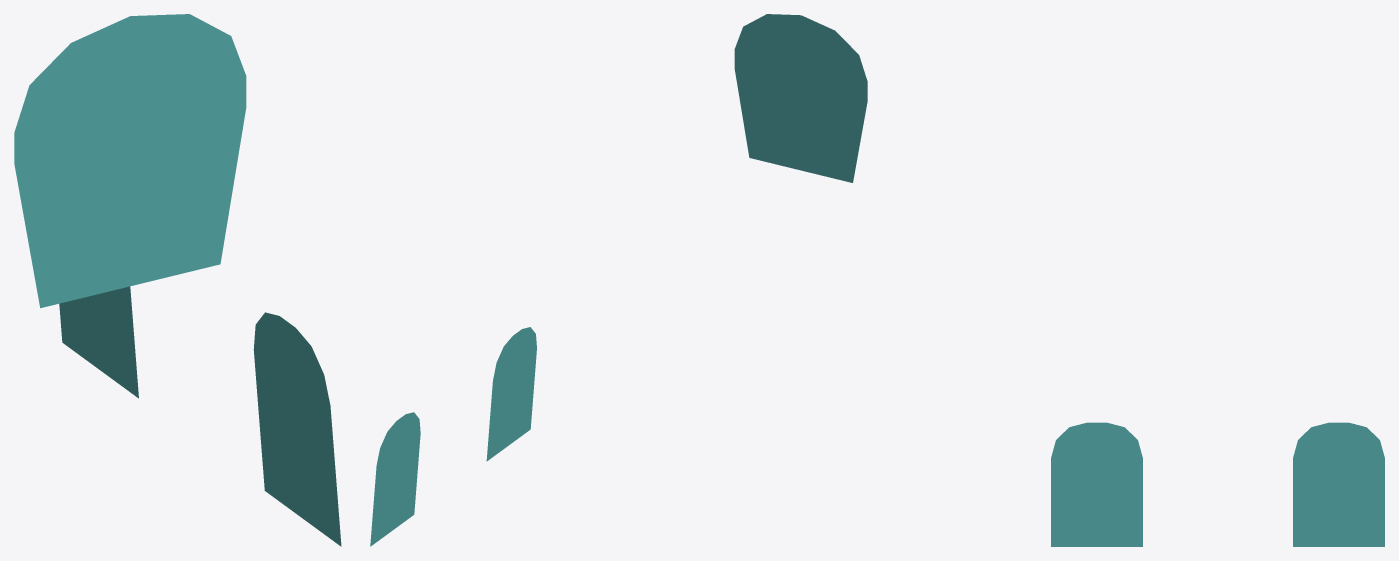
File: Building_1_windows_glass.fbx
3 renders of one model, left to right at view 1: azimuth 30°, elevation 25°; view 2: azimuth 150°, elevation 25°; view 3: azimuth 270°, elevation 25°, orthographic. The views are drawn at different scales.
Parts seen in each view (by area): view 1: NewBuilding_1.001; view 2: NewBuilding_1.001; view 3: NewBuilding_1.001.
Boxes of the visible parts, bbox=[...] form: NewBuilding_1.001: bbox=[14, 14, 341, 546]; NewBuilding_1.001: bbox=[370, 14, 867, 546]; NewBuilding_1.001: bbox=[1051, 422, 1384, 546].
Bounding box in the file's own units: 178 × 115 × 170.
